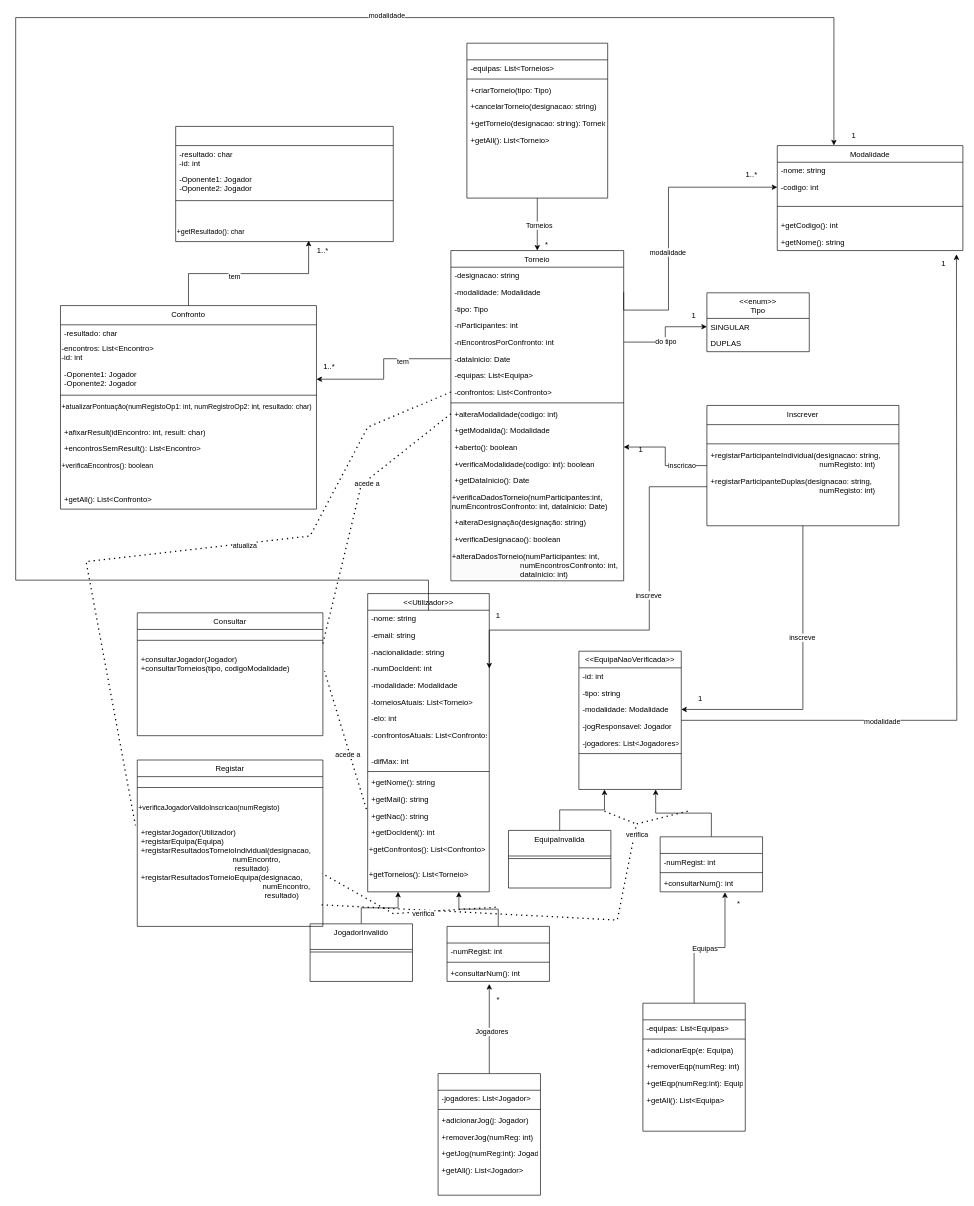
Some shapes in this 974 by 1206 pixel diagram are drawn without their labels. Here are the shapes that lost their labels. From the top down, the box of each, then its label:
(466, 43, 608, 198): catalogoTorneiosAbertos
(175, 126, 393, 242): Encontro
(660, 836, 763, 892): Equipa
(446, 926, 549, 981): Jogador
(642, 1003, 745, 1131): catalogoEquipas
(437, 1073, 540, 1195): catalogoJogadores
